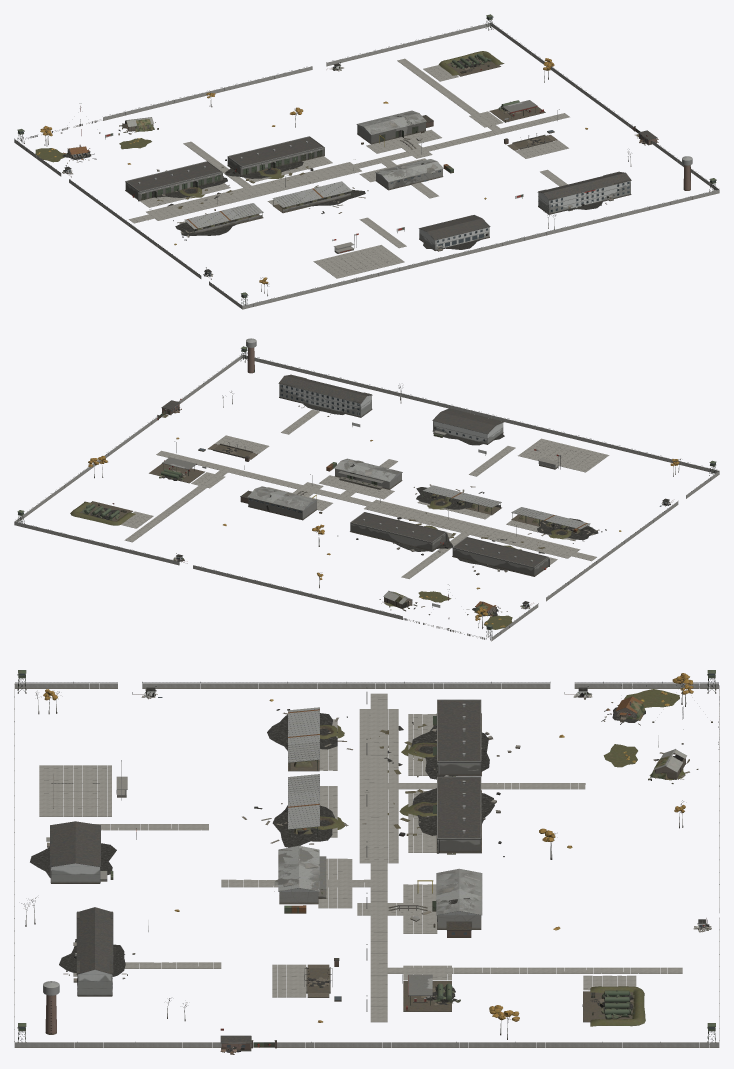
Rendered from site_garr_a.glb.
3 renders of one model, top to bottom at view 1: azimuth 30°, elevation 25°; view 2: azimuth 150°, elevation 25°; view 3: azimuth 270°, elevation 25°, orthographic. The views are drawn at different scales.
Parts seen in each view (by area): view 1: deco|tile_conc, deco|tile_po2, b_barracks1|A_A, b_box1|A_A, b_box2|A_A, deco|A_A, b_canteen|A_A, b_pto|A_A, b_shelter2|A_A, b_shelter1|A_A, b_store_ruin|A_B, b_gsm|A_A (+8 smaller); view 2: deco|tile_conc, deco|tile_po2, b_barracks1|A_A, b_box1|A_A, b_box2|A_A, deco|A_A, b_canteen|A_A, b_pto|A_A, b_store_ruin|A_B, b_shelter2|A_A, b_shelter1|A_A, b_shelter1_ruin|A_B (+6 smaller); view 3: deco|tile_conc, deco|tile_po2, deco|A_A, b_box1|A_A, b_box2|A_A, b_canteen|A_A, b_barracks1|A_A, b_pto|A_A, b_gsm|A_A, b_shelter1|A_A, b_box1_ruin|A_B, b_box2_ruin|A_B (+14 smaller).
Boxes of the visible parts, x1,y1,x2,y2 form: deco|tile_conc: (129, 58, 569, 278); deco|tile_po2: (14, 22, 719, 309); b_barracks1|A_A: (537, 172, 631, 214); b_box1|A_A: (125, 161, 222, 201); b_box2|A_A: (227, 136, 324, 175); deco|A_A: (14, 14, 718, 305); b_canteen|A_A: (419, 215, 490, 251); b_pto|A_A: (357, 110, 433, 149); b_shelter2|A_A: (272, 181, 351, 213); b_shelter1|A_A: (184, 203, 263, 233); b_store_ruin|A_B: (376, 160, 443, 189); b_gsm|A_A: (438, 51, 504, 76); deco|tile_conc: (120, 409, 609, 578); deco|tile_po2: (14, 354, 719, 641); b_barracks1|A_A: (278, 375, 372, 417); b_box1|A_A: (452, 537, 549, 576); b_box2|A_A: (350, 512, 447, 551); deco|A_A: (17, 338, 718, 640); b_canteen|A_A: (432, 408, 503, 444); b_pto|A_A: (240, 486, 317, 519); b_store_ruin|A_B: (335, 459, 402, 489); b_shelter2|A_A: (423, 485, 501, 515); b_shelter1|A_A: (511, 507, 590, 535); b_shelter1_ruin|A_B: (514, 508, 606, 543); deco|tile_conc: (39, 693, 682, 1022); deco|tile_po2: (14, 683, 719, 1047); deco|A_A: (14, 670, 719, 1042); b_box1|A_A: (433, 699, 481, 776); b_box2|A_A: (433, 776, 481, 853); b_canteen|A_A: (46, 821, 113, 883); b_barracks1|A_A: (73, 907, 113, 996); b_pto|A_A: (388, 869, 482, 937); b_gsm|A_A: (582, 986, 645, 1026); b_shelter1|A_A: (288, 707, 319, 771); b_box1_ruin|A_B: (370, 722, 520, 779); b_box2_ruin|A_B: (387, 788, 504, 856).
Size of the model in its own units: 357 by 24.55 by 291.
Materials: 56 (38 with a texture image).
